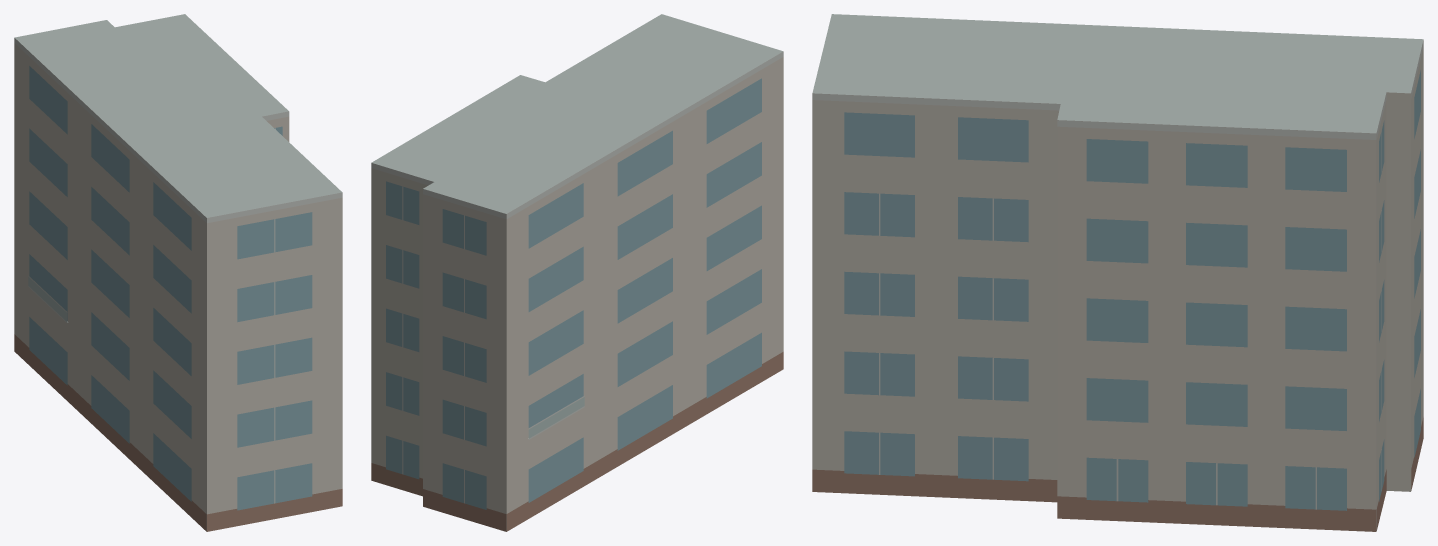
File: survey-upis-32565051.glb
3 views of the same model, side by side, from view 1: azimuth 30°, elevation 25°; view 2: azimuth 150°, elevation 25°; view 3: azimuth 270°, elevation 25° (orthographic). The views are drawn at different scales.
Visible parts, largest first — view 1: survey-upis-32565051.tmp; view 2: survey-upis-32565051.tmp; view 3: survey-upis-32565051.tmp.
Part boxes in pixels (<box>): survey-upis-32565051.tmp: <box>14,14,342,531</box>; survey-upis-32565051.tmp: <box>371,14,783,531</box>; survey-upis-32565051.tmp: <box>812,14,1423,531</box>.
Bounding box in the file's own units: 9.39 × 14.6 × 20.31.
